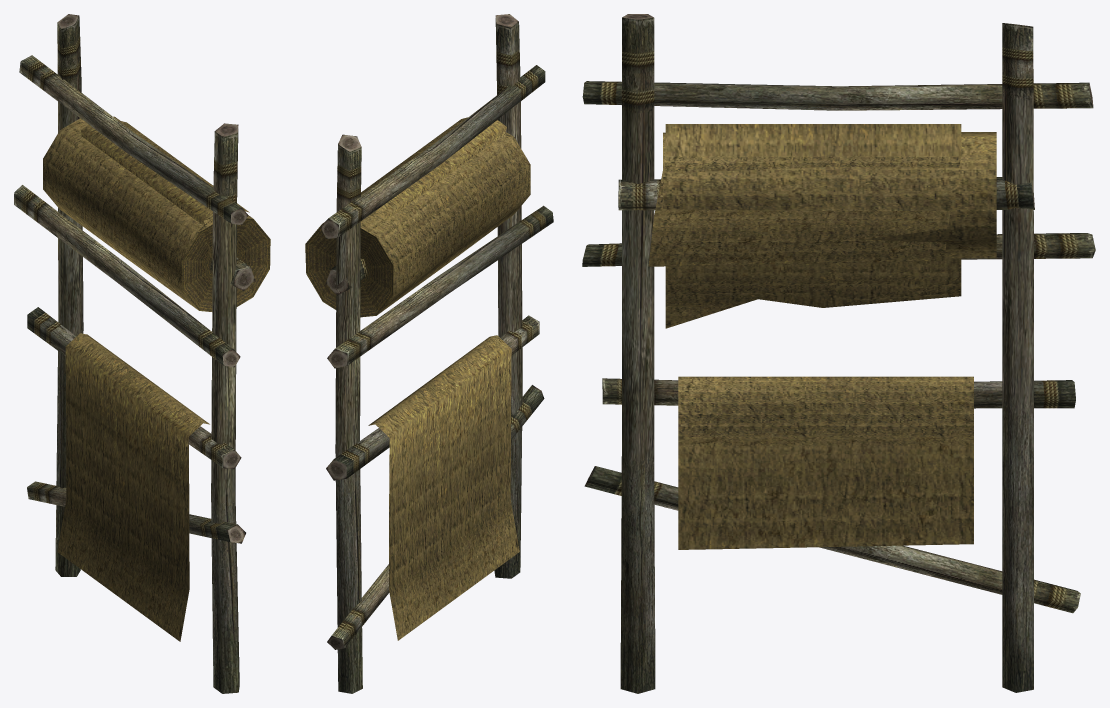
File: thing_hake_06.glb
The picture shows the model from 3 angles, left to right: view 1: azimuth 30°, elevation 25°; view 2: azimuth 150°, elevation 25°; view 3: azimuth 270°, elevation 25°; orthographic projection. The views are drawn at different scales.
Parts seen in each view (by area): view 1: thing_hake_06; view 2: thing_hake_06; view 3: thing_hake_06.
Boxes of the visible parts, bbox=[...] form: thing_hake_06: bbox=[14, 14, 270, 693]; thing_hake_06: bbox=[305, 14, 553, 693]; thing_hake_06: bbox=[582, 14, 1095, 693].
Size of the model in its own units: 1.3 by 7.6 by 5.25.
Materials: 1 (1 with a texture image).
